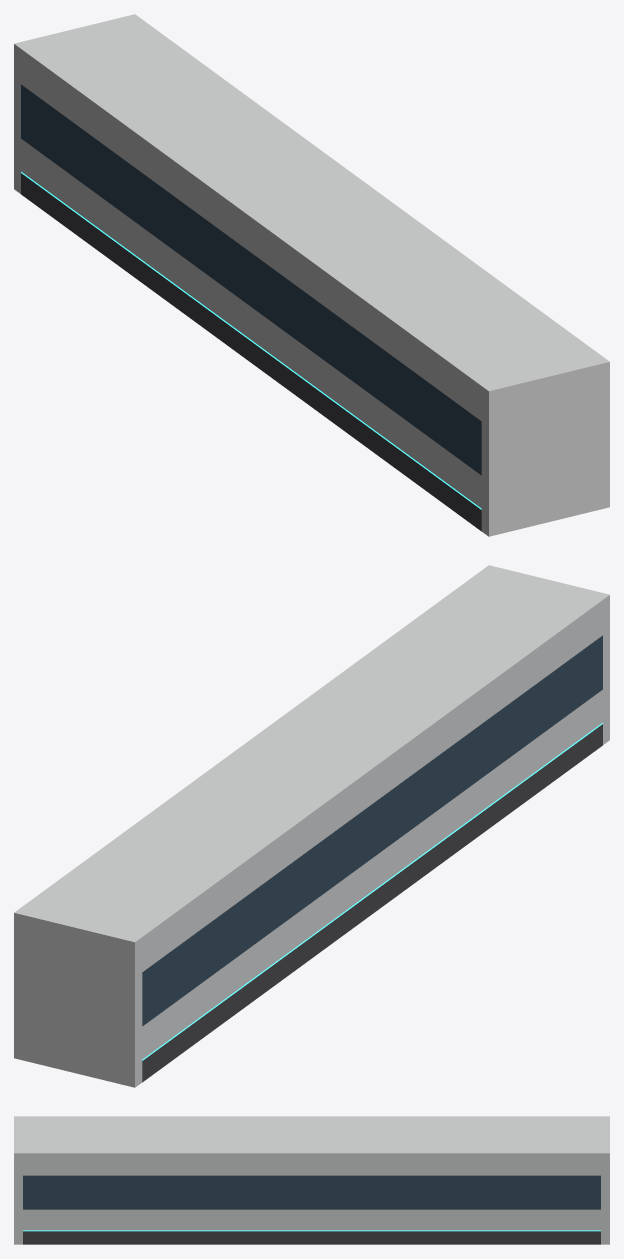
File: 375_far.fbx
3 renders of one model, top to bottom at view 1: azimuth 30°, elevation 25°; view 2: azimuth 150°, elevation 25°; view 3: azimuth 270°, elevation 25°, orthographic. The views are drawn at different scales.
Visible parts, largest first — view 1: 375_far; view 2: 375_far; view 3: 375_far.
Boxes of the visible parts, box(x1,y1,x2,y2) form: 375_far: box(14, 14, 609, 536); 375_far: box(14, 565, 609, 1087); 375_far: box(14, 1116, 609, 1244).
Size of the model in its own units: 2.95 by 3.38 by 20.
